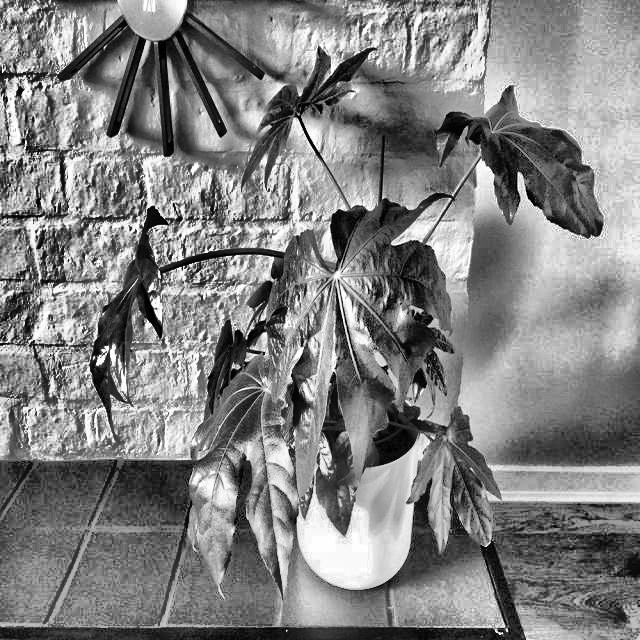plants: (103, 214, 486, 560)
